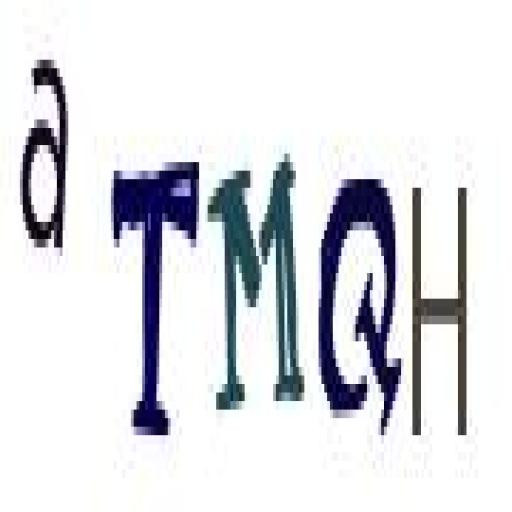H: (408, 159, 472, 466)
M: (206, 147, 309, 438)
Q: (311, 161, 408, 461)
T: (107, 141, 202, 448)
a: (16, 38, 76, 279)
